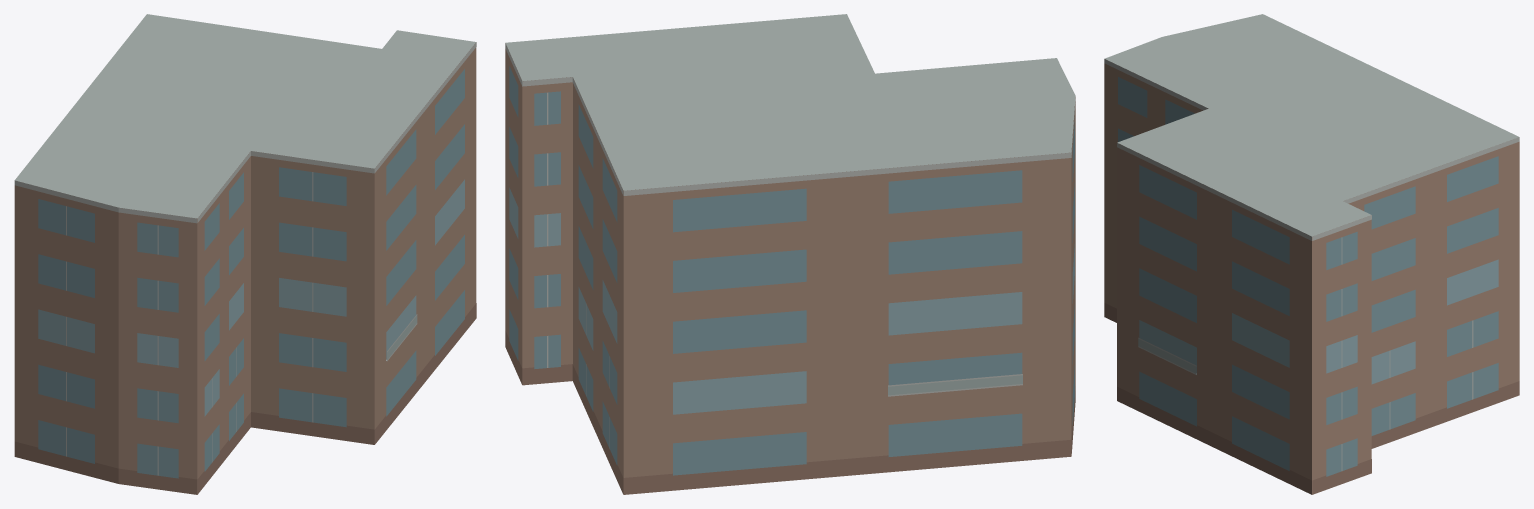
The model's file is survey-upis-32488049.glb.
The picture shows the model from 3 angles, left to right: view 1: azimuth 30°, elevation 25°; view 2: azimuth 150°, elevation 25°; view 3: azimuth 270°, elevation 25°; orthographic projection. The views are drawn at different scales.
Visible parts, largest first — view 1: survey-upis-32488049.tmp; view 2: survey-upis-32488049.tmp; view 3: survey-upis-32488049.tmp.
Boxes of the visible parts, x1,y1,x2,y2 form: survey-upis-32488049.tmp: [14, 14, 476, 494]; survey-upis-32488049.tmp: [505, 14, 1075, 494]; survey-upis-32488049.tmp: [1104, 14, 1519, 494].
Bounding box in the file's own units: 25.61 × 13.85 × 20.19.
